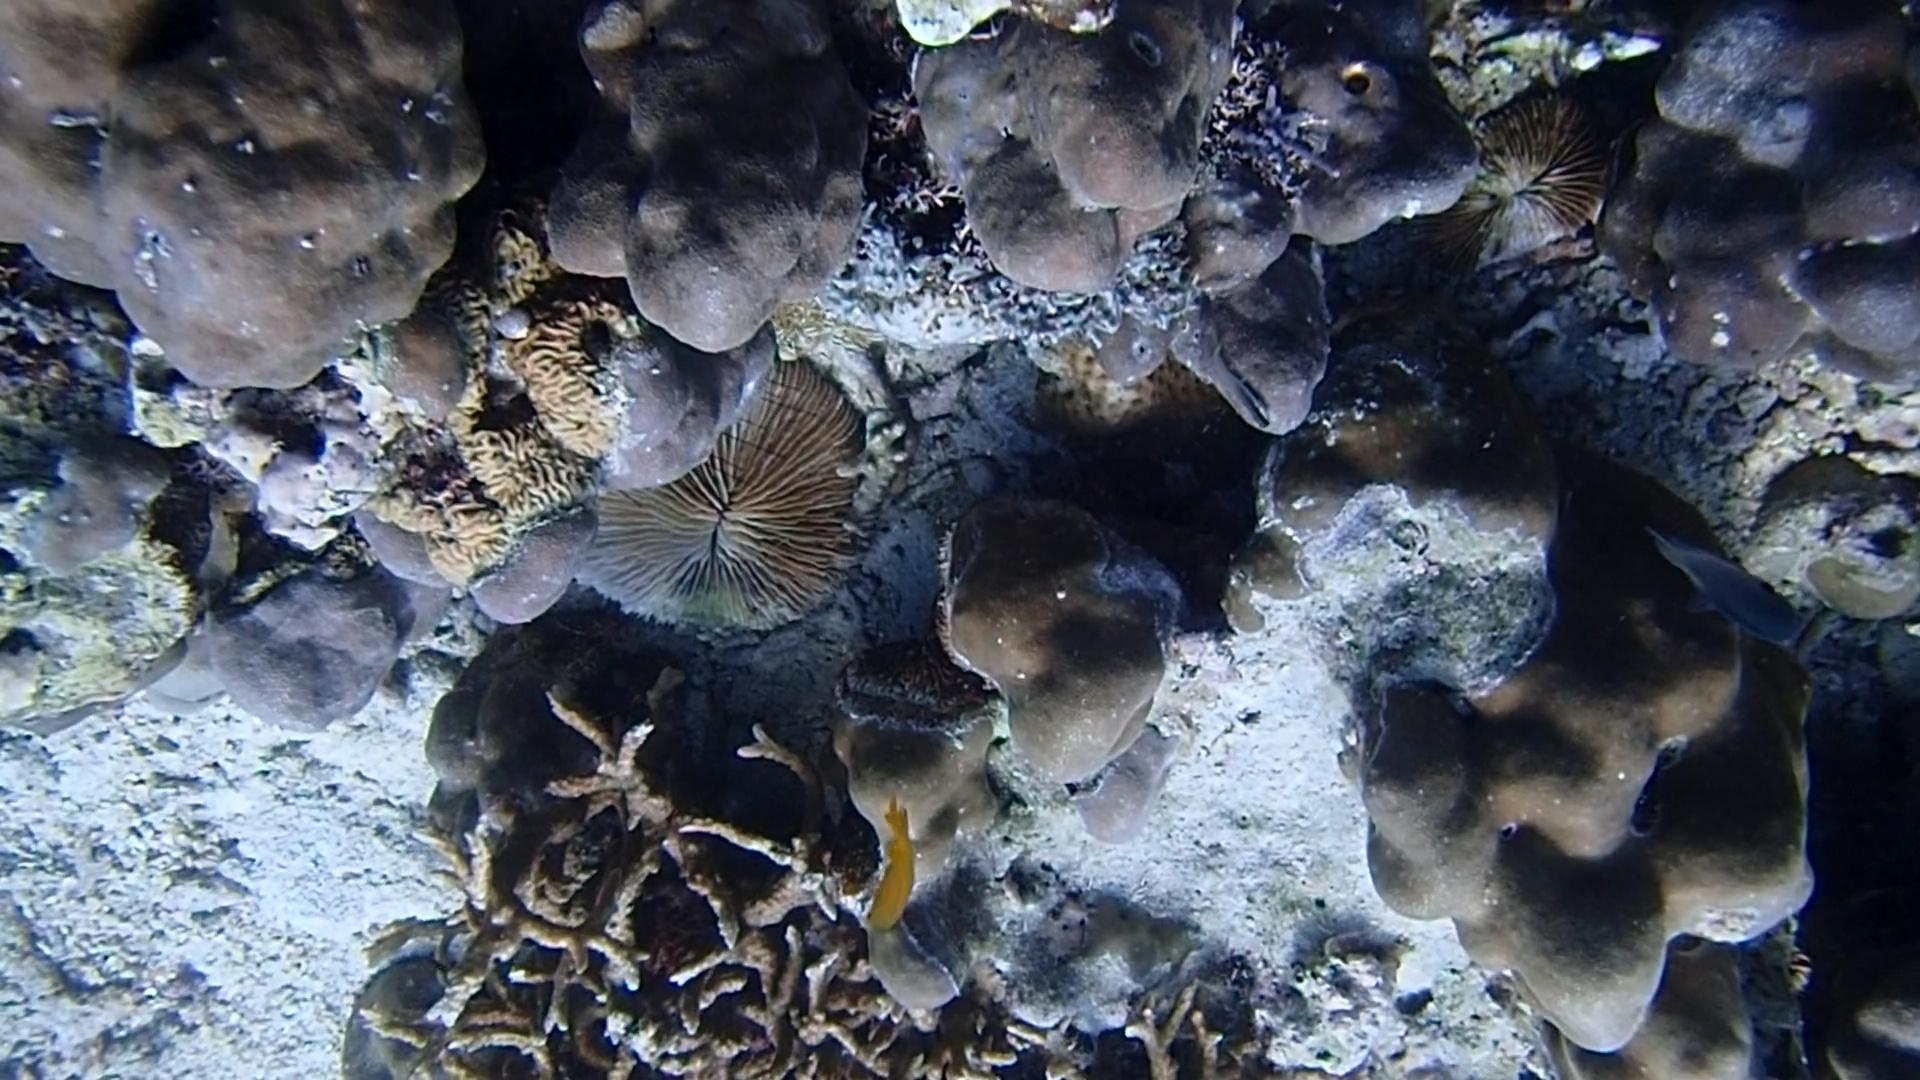Blue Fish Two: (1648, 522, 1818, 650)
Yellow Fish: (862, 795, 924, 938)
